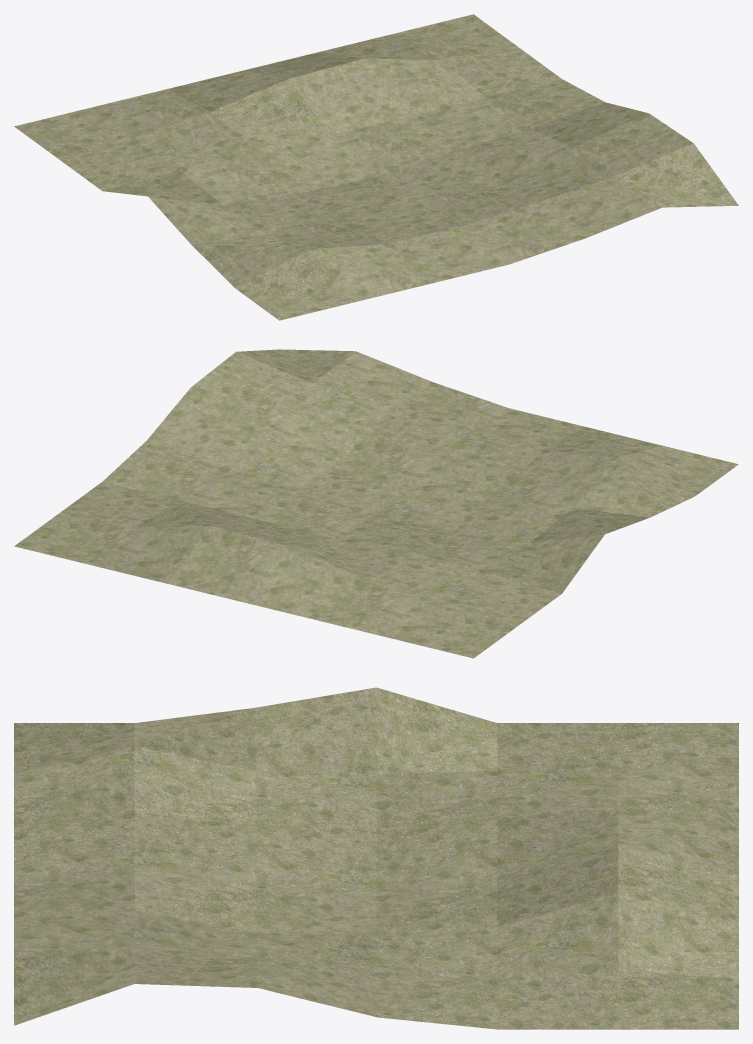
File: SM_Chateaux_10.fbx
3 views of the same model, one above another, from view 1: azimuth 30°, elevation 25°; view 2: azimuth 150°, elevation 25°; view 3: azimuth 270°, elevation 25° (orthographic). The views are drawn at different scales.
Visible parts, largest first — view 1: SM_Chateaux_10; view 2: SM_Chateaux_10; view 3: SM_Chateaux_10.
Boxes of the visible parts, left/top/right/bottom form: SM_Chateaux_10: left=14, top=14, right=738, bottom=320; SM_Chateaux_10: left=14, top=349, right=738, bottom=658; SM_Chateaux_10: left=14, top=687, right=738, bottom=1029.
Size of the model in its own units: 8821 by 771 by 8821.
